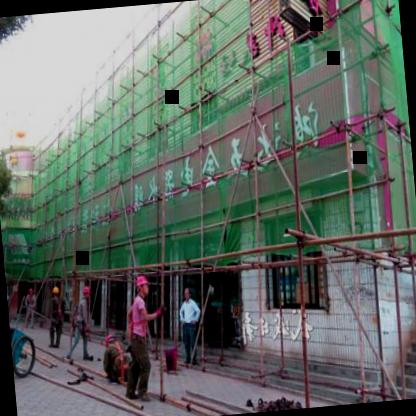helmet: (132, 271, 154, 300), (101, 332, 118, 350), (78, 282, 92, 301)
